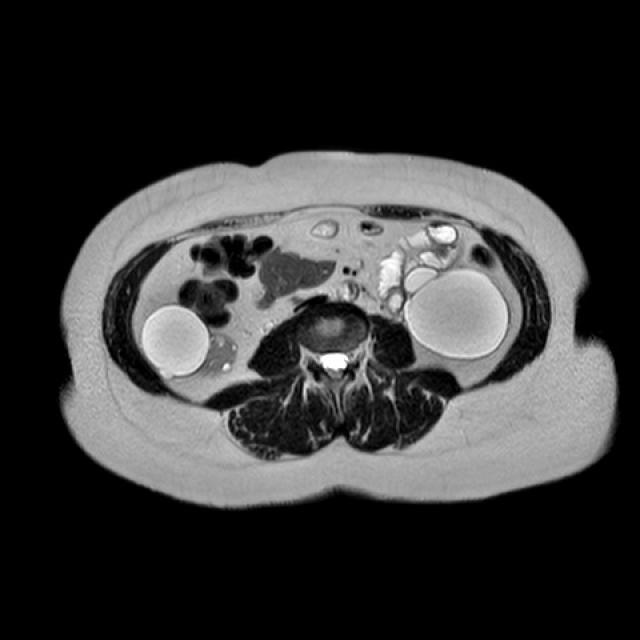sag: (140, 302, 239, 384)
sol: (400, 266, 510, 358)
